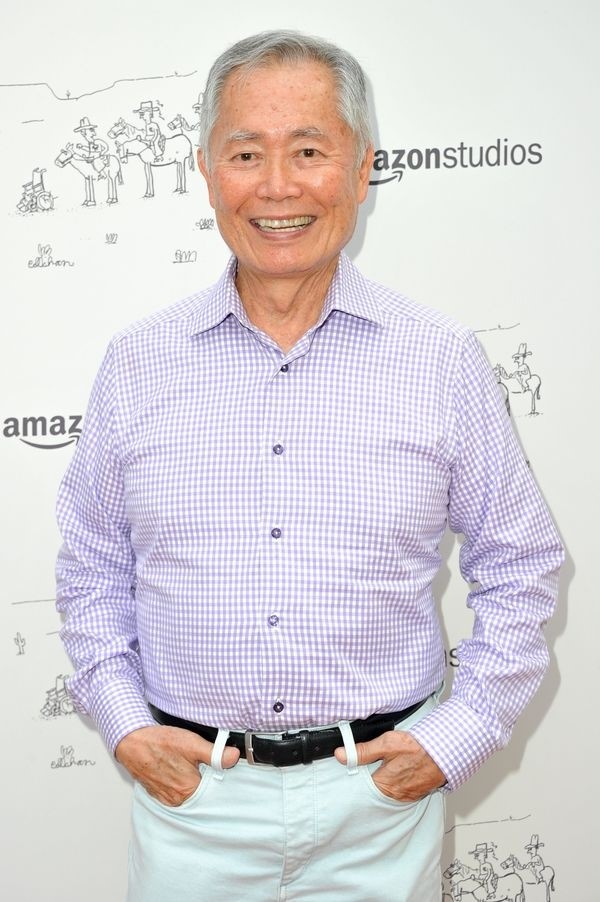face_no_mask: (198, 35, 371, 285)
